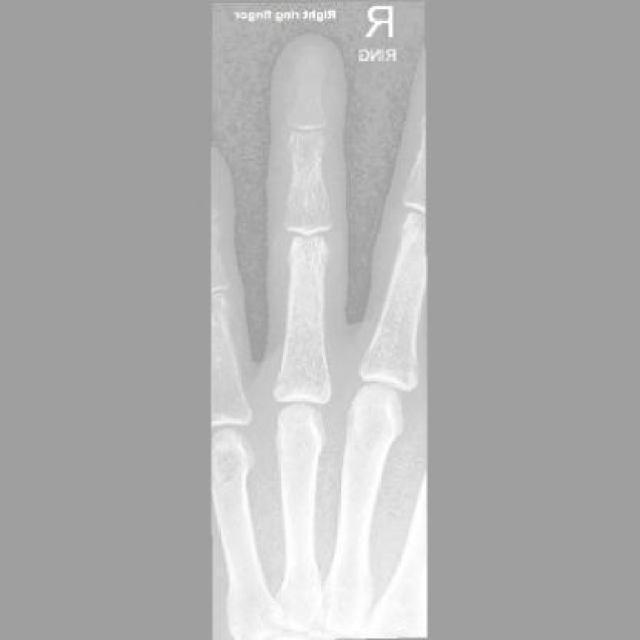Fracture: (292, 56, 326, 93)
